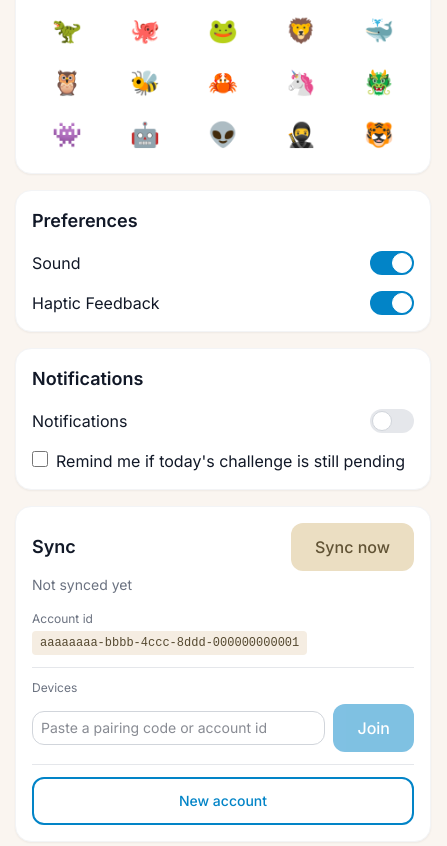
Test: Settings Page › shows the test notification button only when notifications are enabled
The width and height of the screenshot is (447, 846).
(page scrolled)
Check: the button "Send test notification" is not shown
Click the 3rd checkbox at (392, 421), box [370,409,414,433]
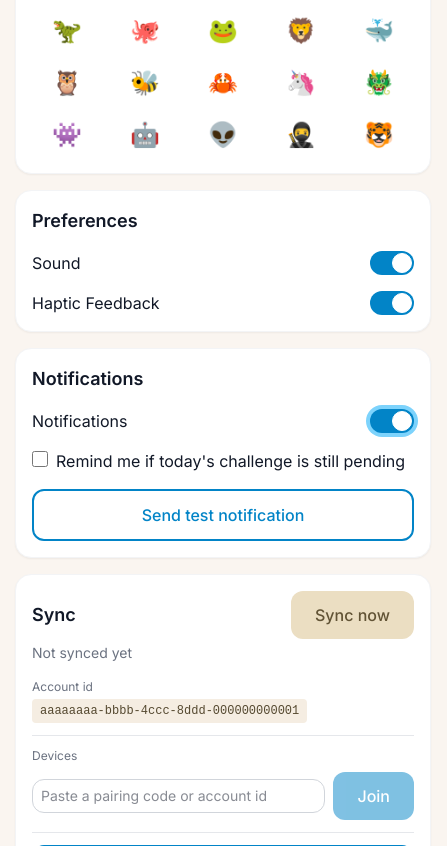
Check: the button "Send test notification" is shown, box [32,489,414,541]
